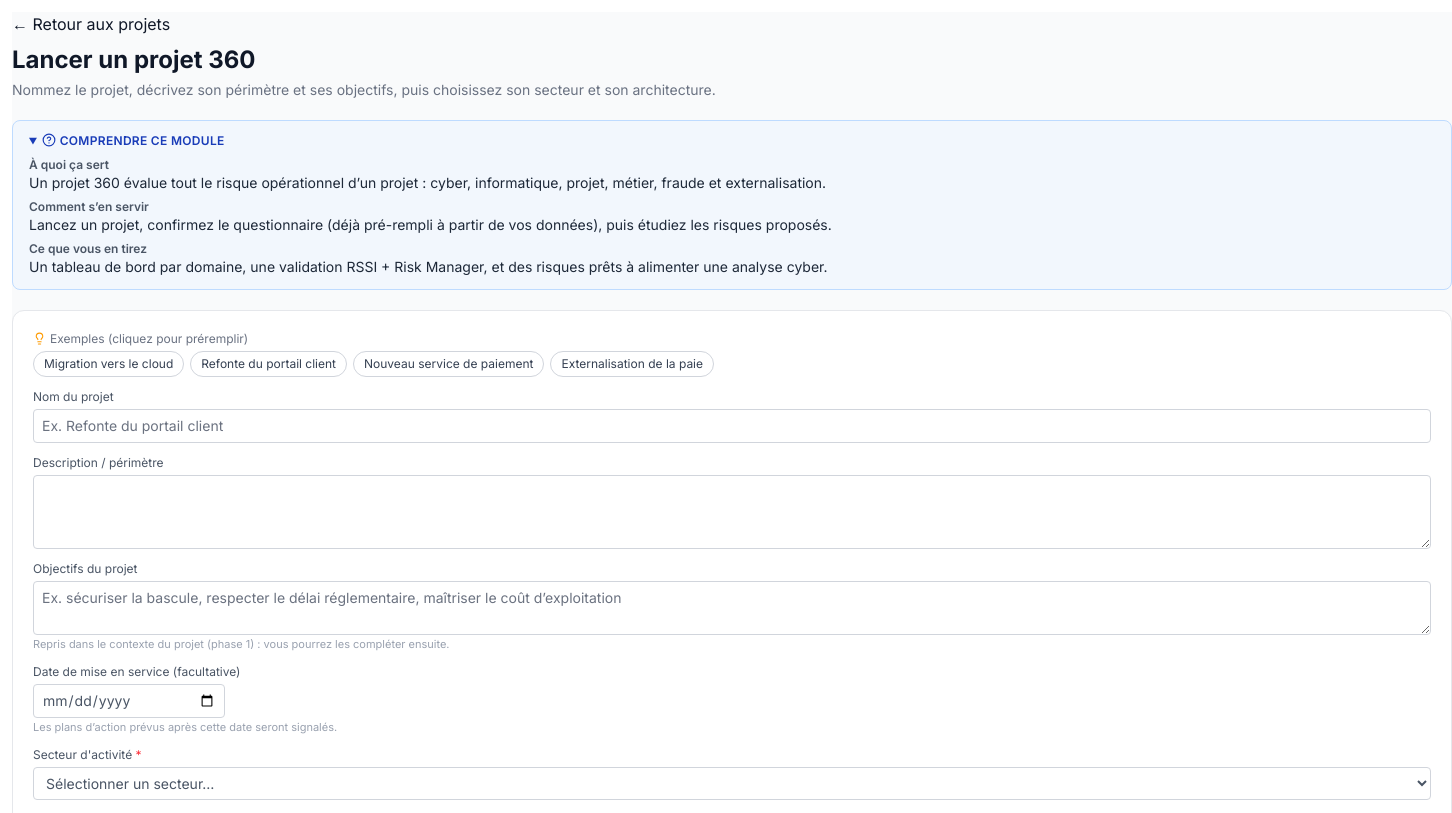
Scenario: NouveauProjet360 — page dédiée de lancement › un exemple de projet préremplit le nom et la description ; lien retour vers les projets
Click the button "Migration vers le cloud". click: (109, 364)
box: [33,351,184,377]
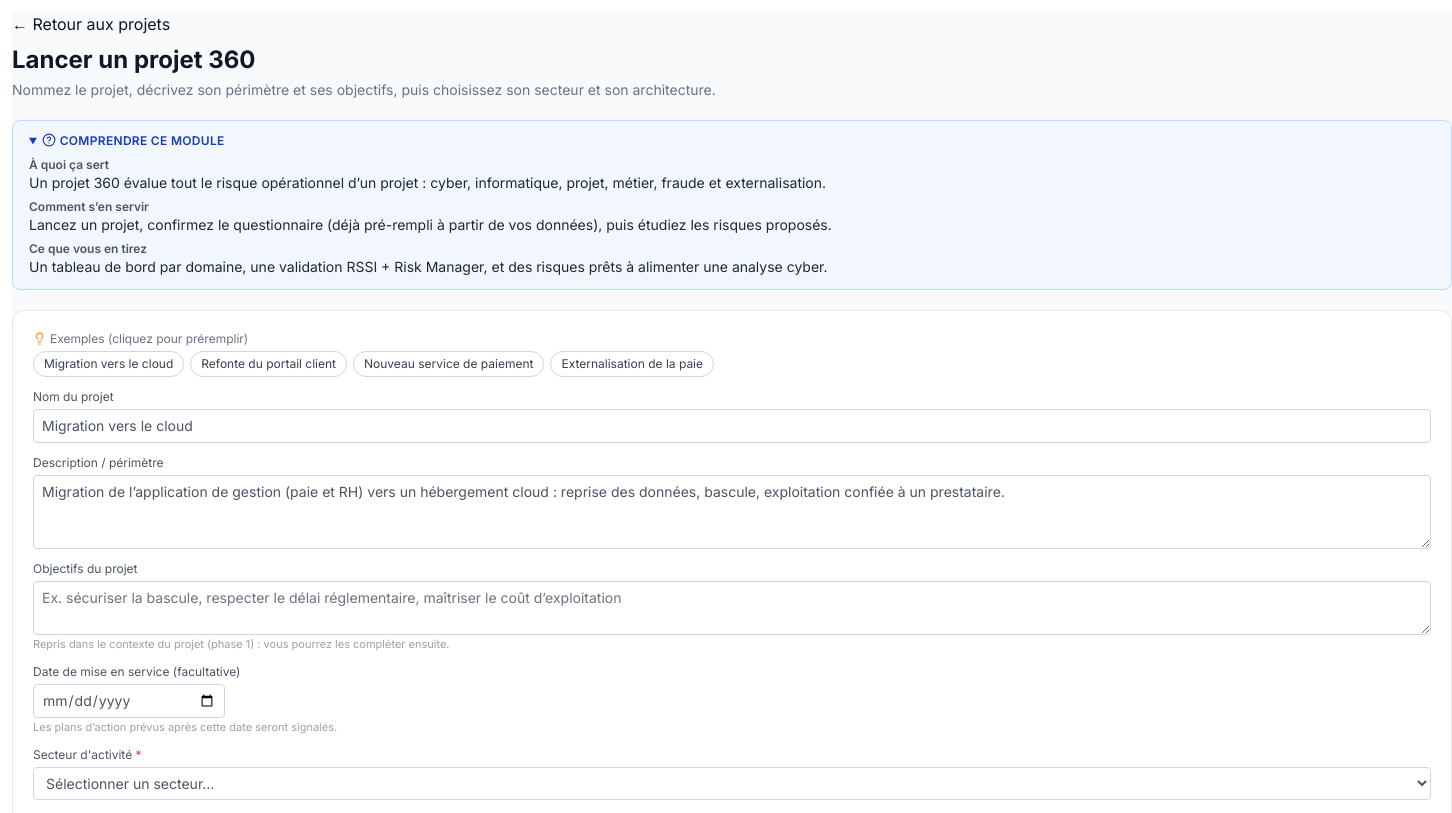
Expected: the field labelled "Nom du projet" holds "Migration vers le cloud", [33,409,1431,443]
